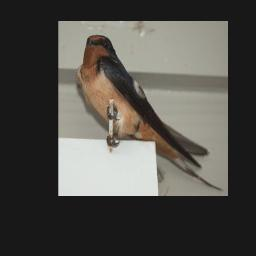Swallow: (81, 33, 225, 188)
